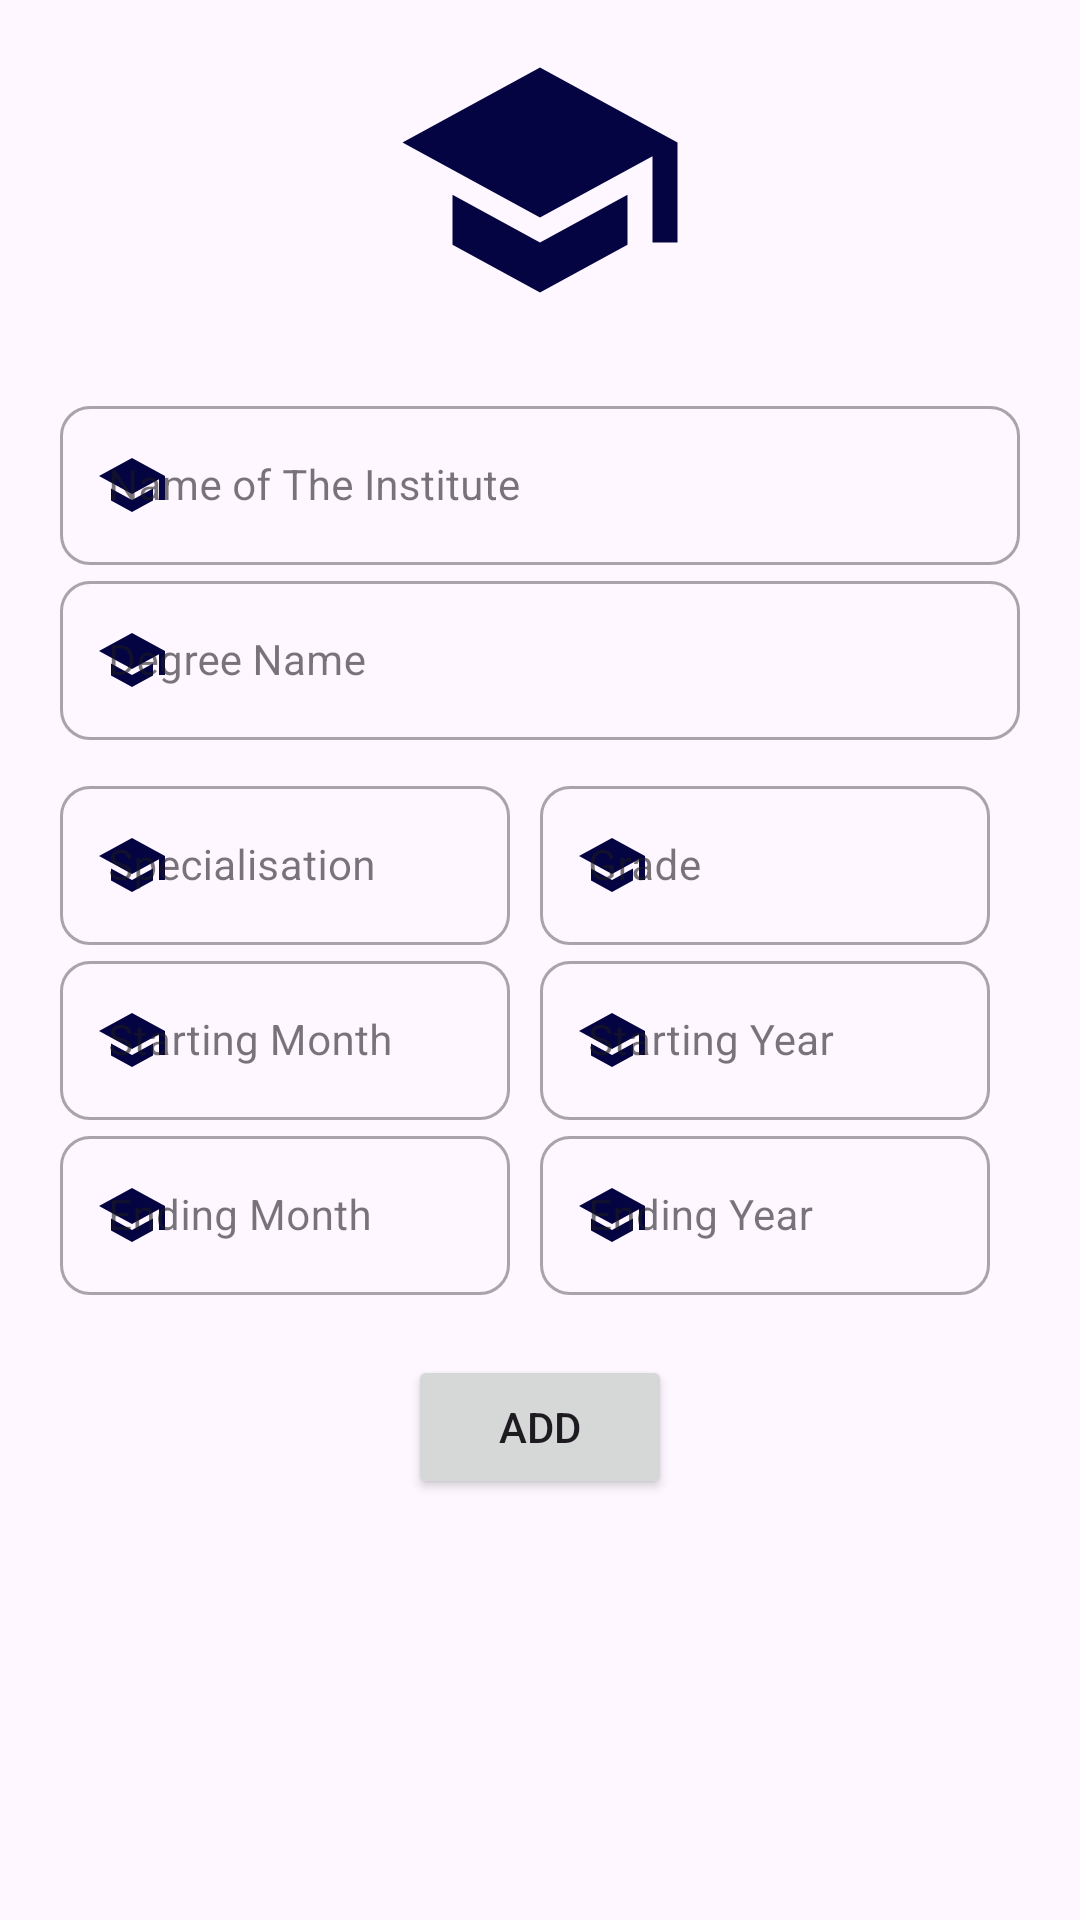

Screen size 1080x1920. Icon name, then its box in pixels as (x1, y1, x2, y2):
education: (402, 67, 678, 293)
